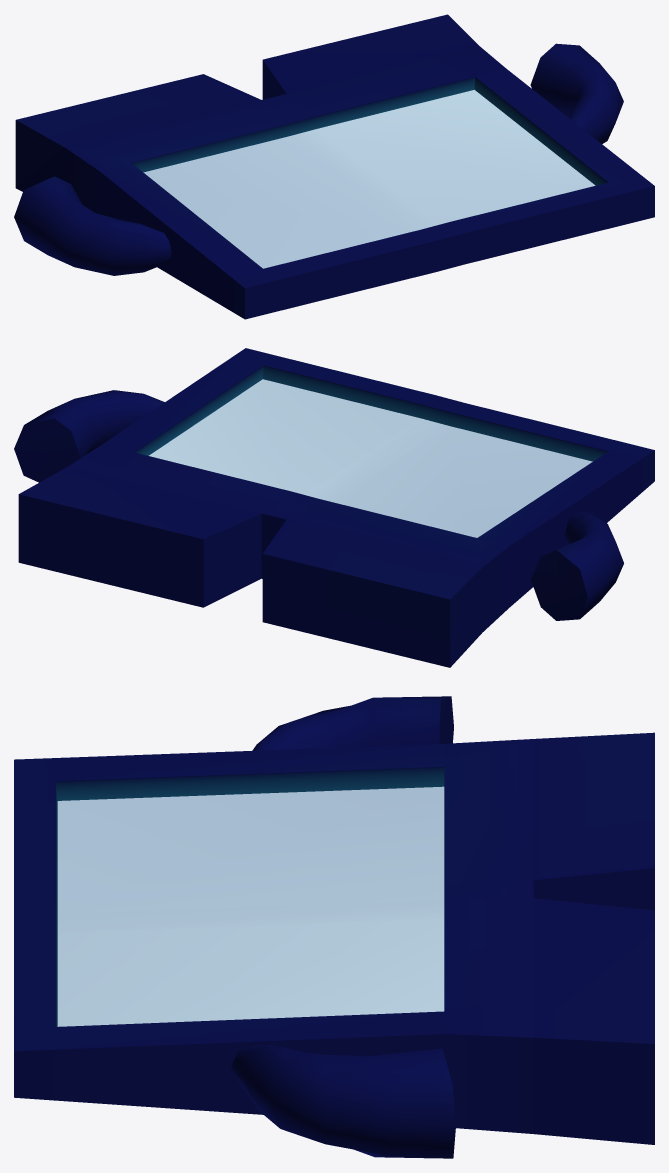
The model's file is Tablet.fbx.
3 views of the same model, one above another, from view 1: azimuth 30°, elevation 25°; view 2: azimuth 150°, elevation 25°; view 3: azimuth 270°, elevation 25° (orthographic). The views are drawn at different scales.
Parts seen in each view (by area): view 1: Tablet; view 2: Tablet; view 3: Tablet.
Boxes of the visible parts, bbox=[...] form: Tablet: bbox=[14, 14, 654, 319]; Tablet: bbox=[14, 348, 654, 667]; Tablet: bbox=[14, 696, 654, 1158].
Size of the model in its own units: 33.9 by 4.69 by 22.21.
